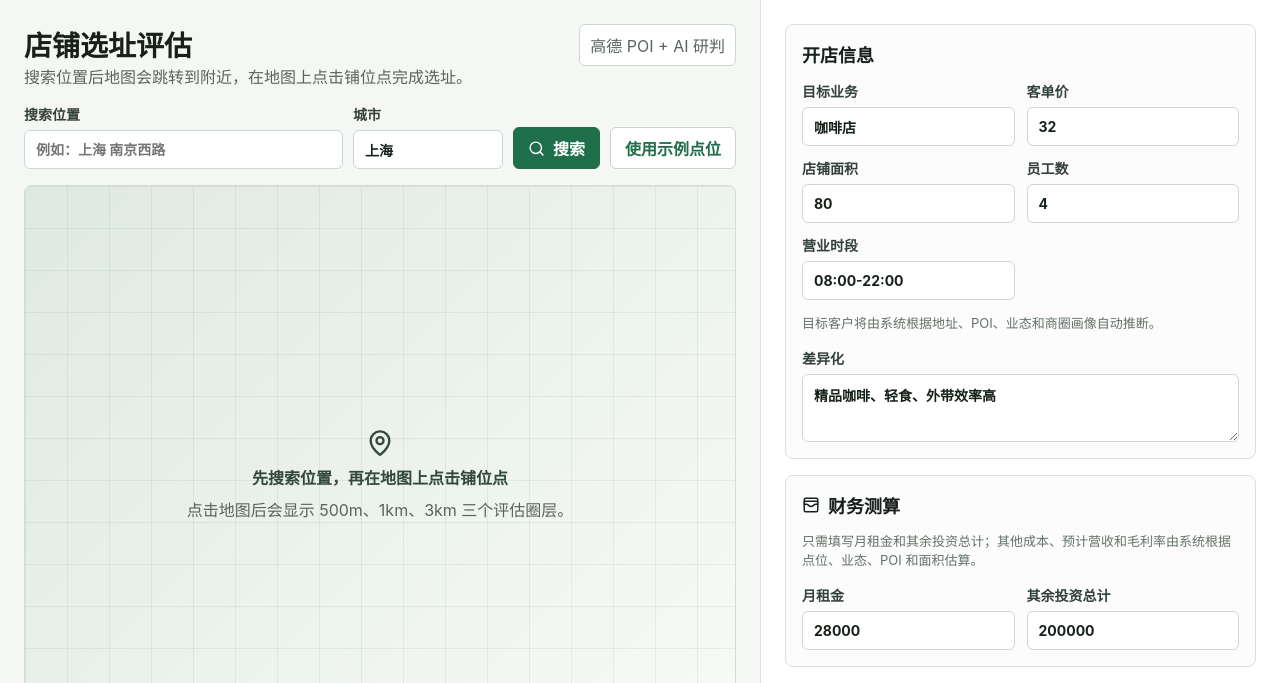
Test: App › shows the research loading state immediately after submit
Click the button "使用示例点位".
click(673, 148)  # box [610,127,736,169]
(page scrolled)
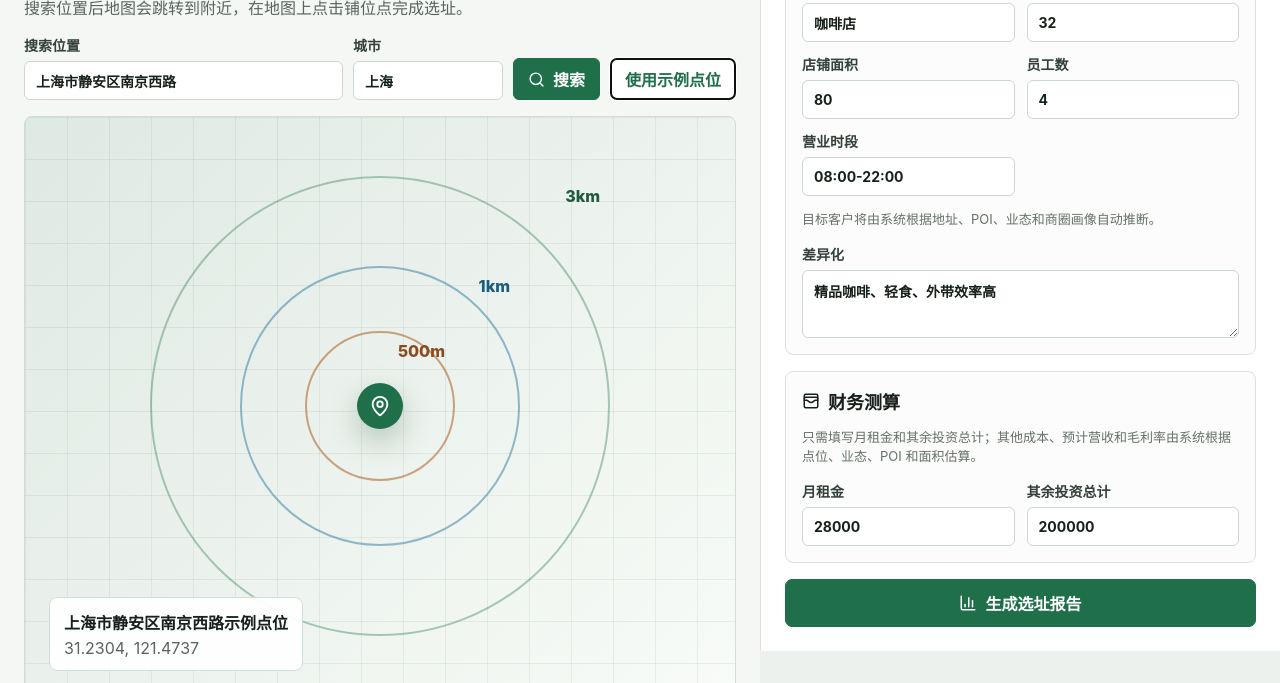
Click the button "生成选址报告".
click(1020, 602)  # box [785,578,1256,626]
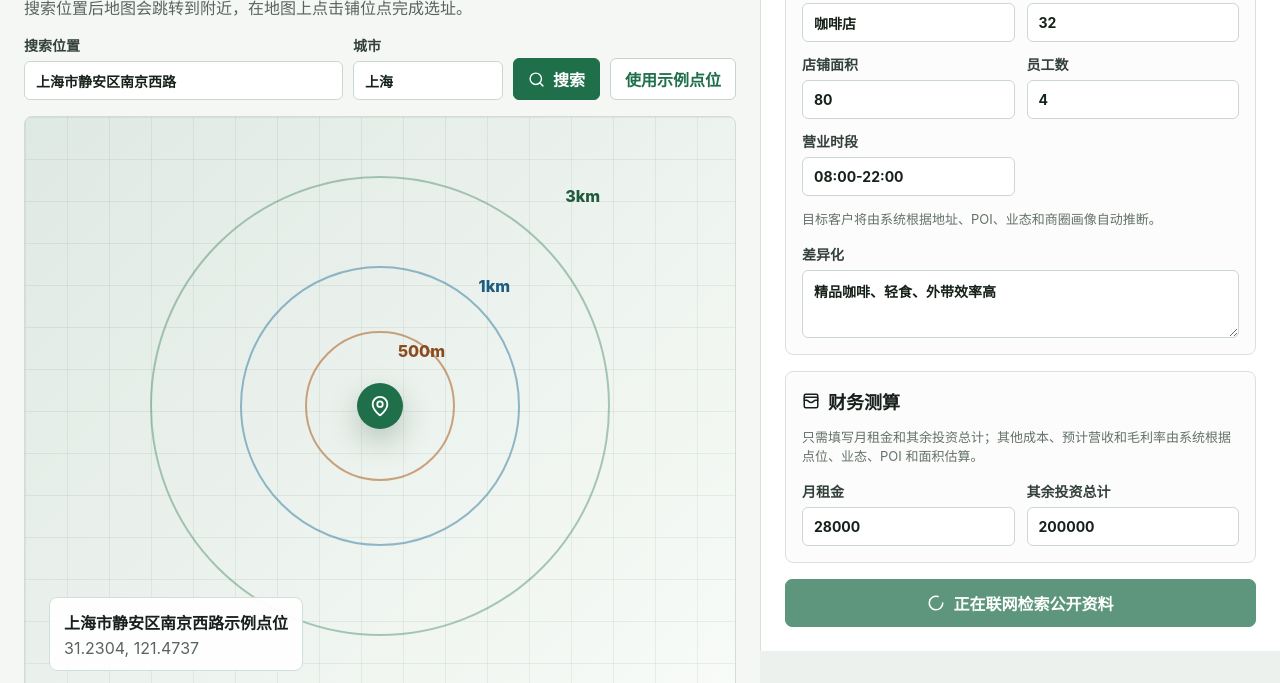
Expected: the button "正在联网检索公开资料" is disabled, [785,578,1256,626]
